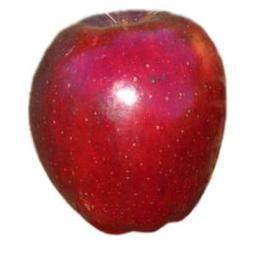apple: (28, 7, 227, 235)
